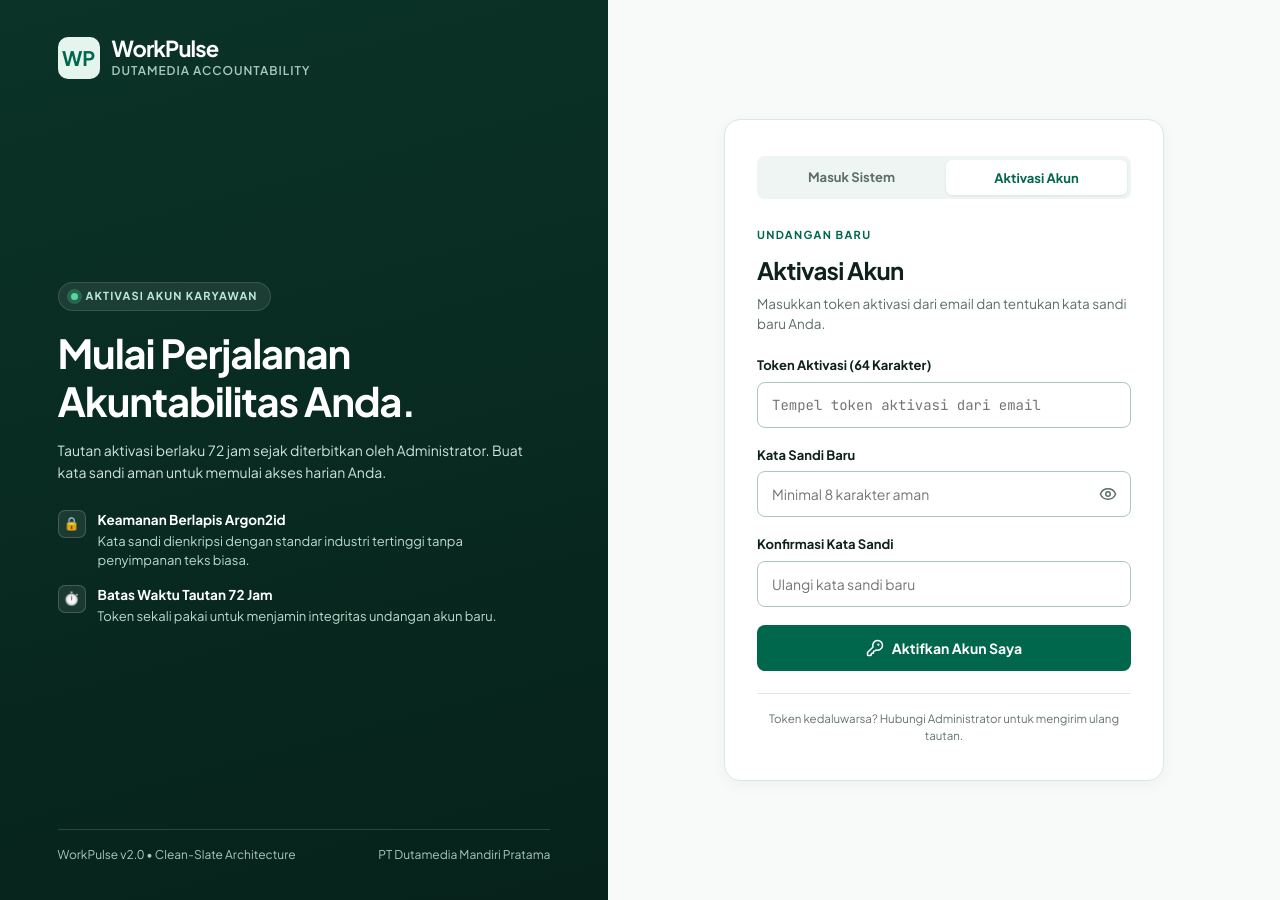
Test: ActivateView.vue (WP-EP02-TK005 / Prototipe 01 Tab Aktivasi) › calculates password strength when password is typed
Type "Short" into the password field with id "activate-password" at (944, 494), box left=757, top=471, right=1131, bottom=517
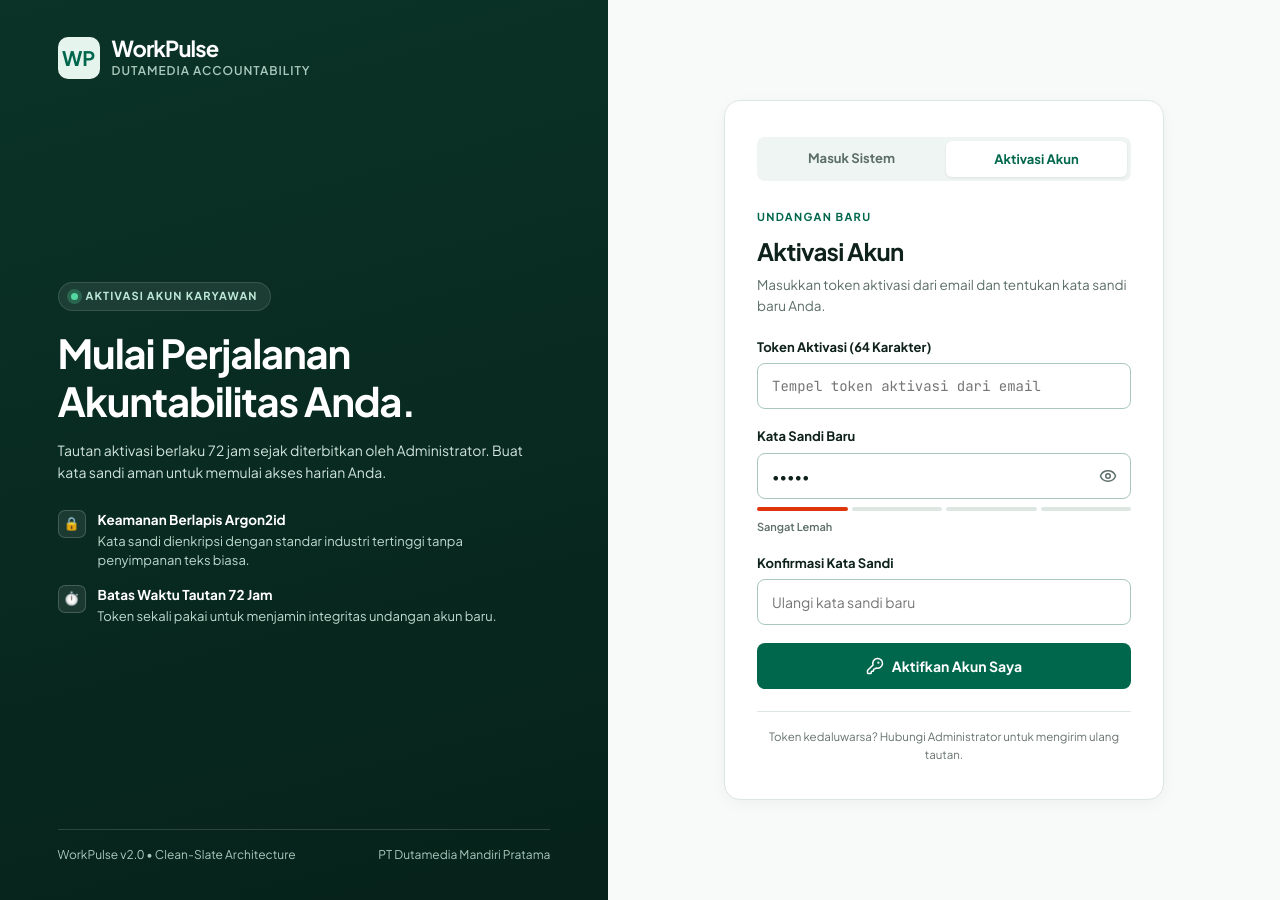
Now the text "Sangat Lemah" is shown, box left=757, top=520, right=832, bottom=533
Type "ValidSecurePass123!" into the password field with id "activate-password" at (944, 476), box left=757, top=453, right=1131, bottom=499
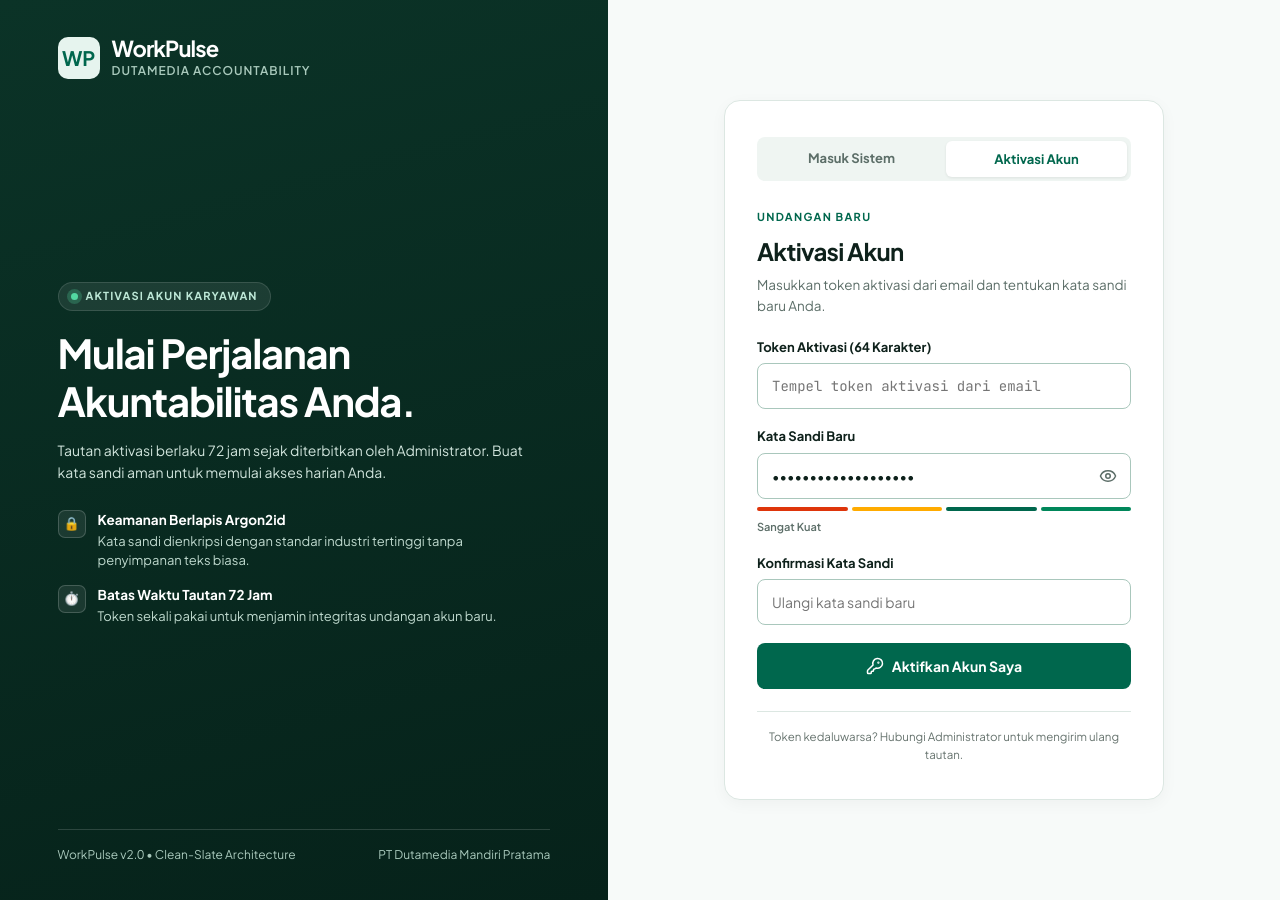
Now the text "Sangat Kuat" is shown, box left=757, top=520, right=821, bottom=533
